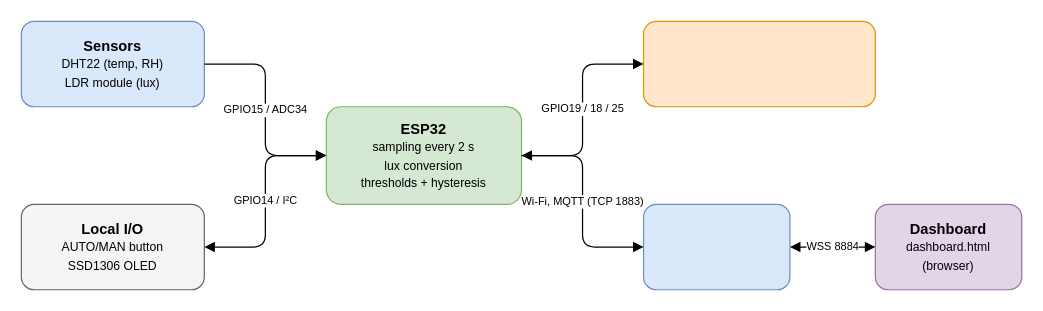
This 1043x311 diagram has some shape labels left out. The shapes that lost their labels are listed below. From the top down, each one's centre as x and y in pixels, then its label:
the point at 758,63: Actuators Relay 1 → fan, Relay 2 → light Buzzer (critical temp alarm)
the point at 716,246: MQTT broker broker.hivemq.com
